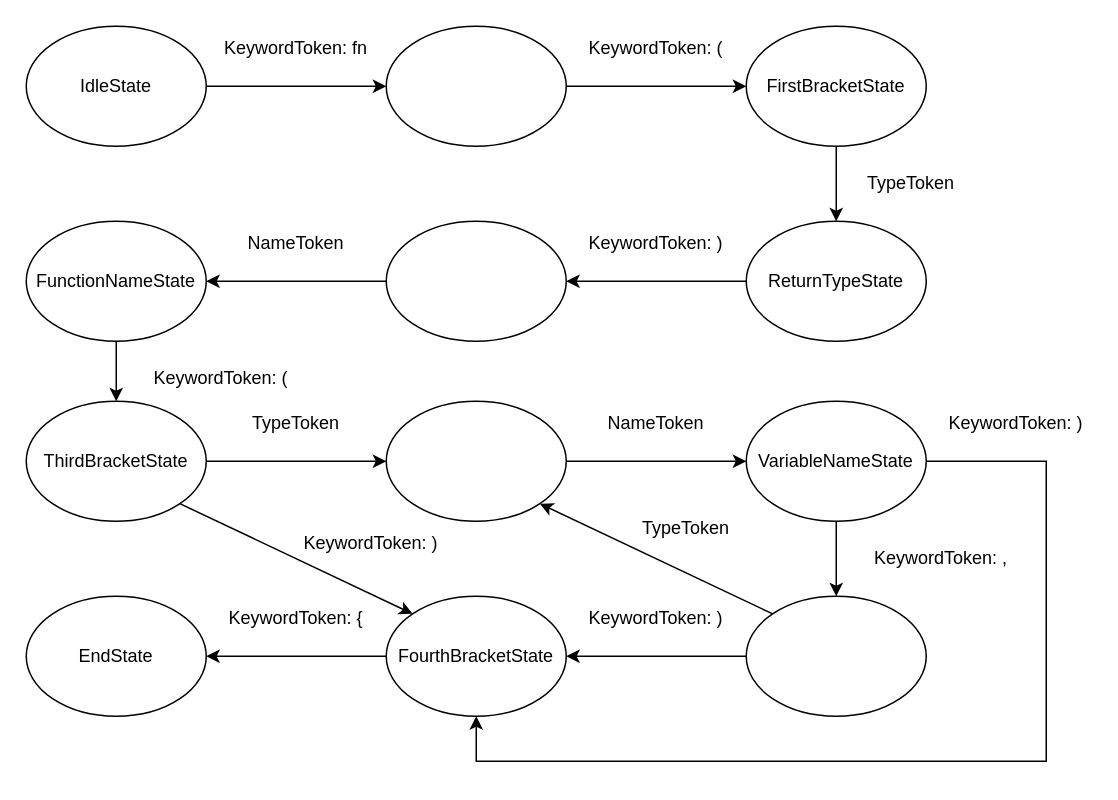
Image size: 1118x800. Some labels were removed from this diagram. The shapes that lost their labels are listed below. From the top down, each one's centre as x and y in pixels, then its label:
the point at 475,85: FNFunctionState
the point at 475,280: SecondBracketState
the point at 475,460: VariableTypeState
the point at 835,655: CommaState
